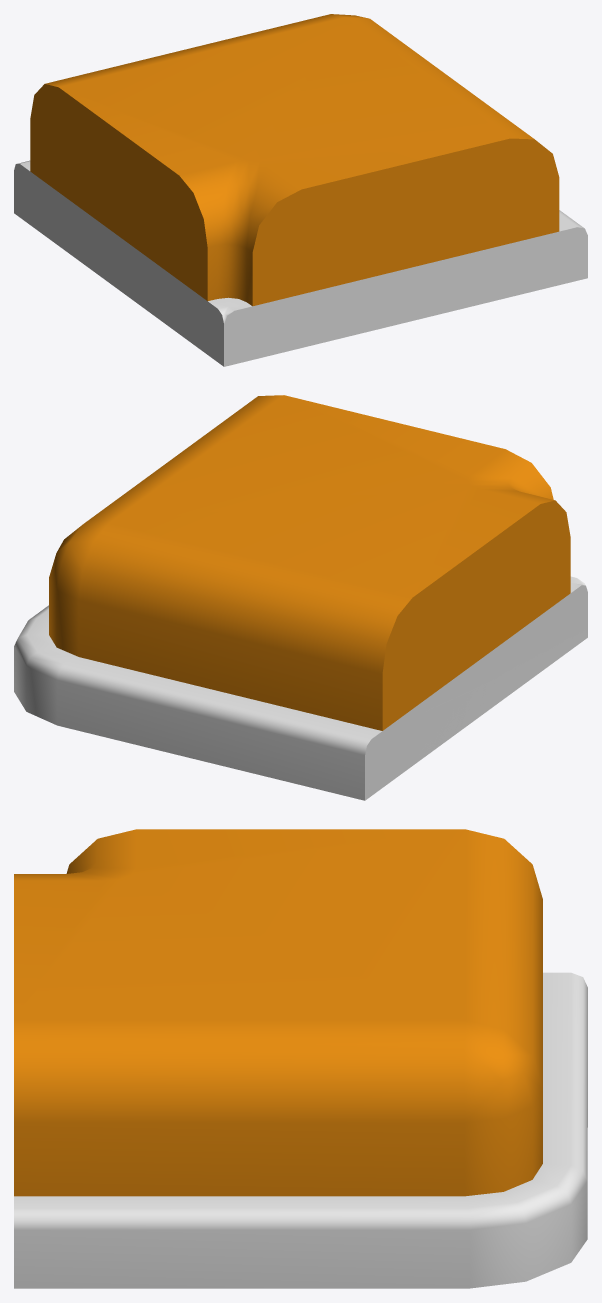
Rendered from Wall_Corner_Beveled.fbx.
3 views of the same model, one above another, from view 1: azimuth 30°, elevation 25°; view 2: azimuth 150°, elevation 25°; view 3: azimuth 270°, elevation 25° (orthographic). The views are drawn at different scales.
Visible parts, largest first — view 1: Wall_Corner_Beveled; view 2: Wall_Corner_Beveled; view 3: Wall_Corner_Beveled.
Part boxes in pixels (box(x1,y1,x2,y2)): Wall_Corner_Beveled: box(14, 14, 587, 366); Wall_Corner_Beveled: box(14, 395, 587, 800); Wall_Corner_Beveled: box(14, 829, 587, 1288).
Bounding box in the file's own units: 70.82 × 29.51 × 70.82.
